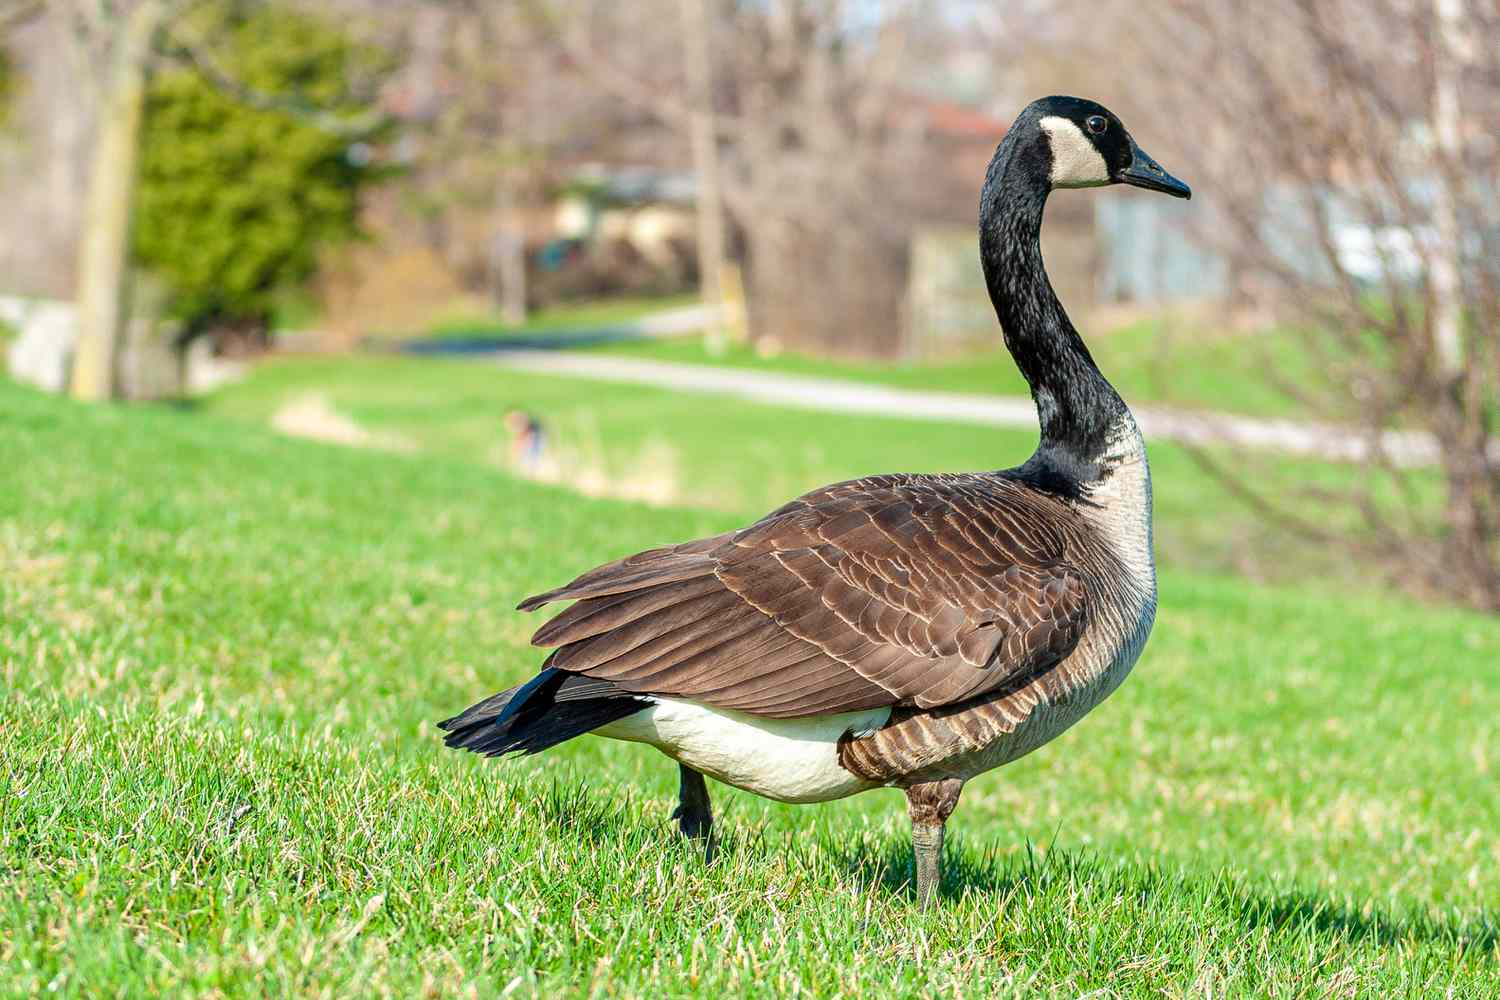goose: (435, 90, 1205, 915)
